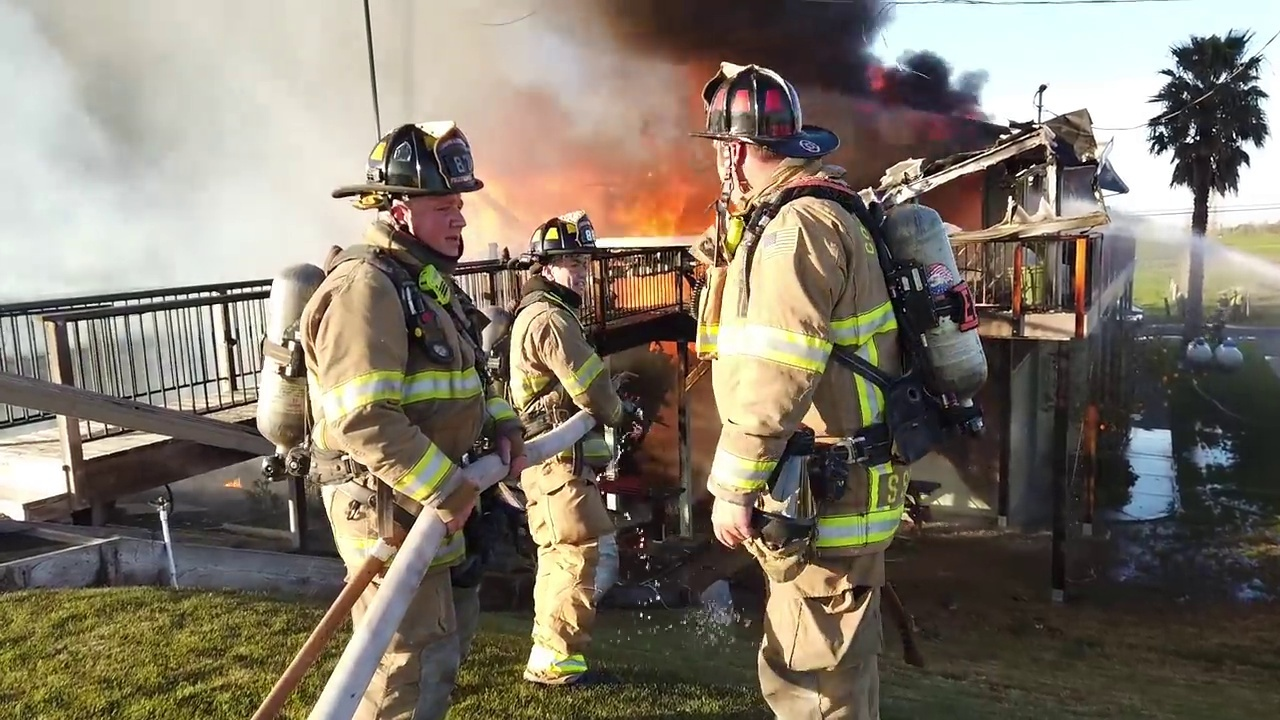fire: (488, 164, 711, 227), (604, 267, 693, 302)
smoke: (1, 2, 547, 143), (550, 1, 921, 102), (3, 149, 244, 289), (866, 46, 995, 134), (553, 107, 703, 165), (660, 383, 719, 453)
